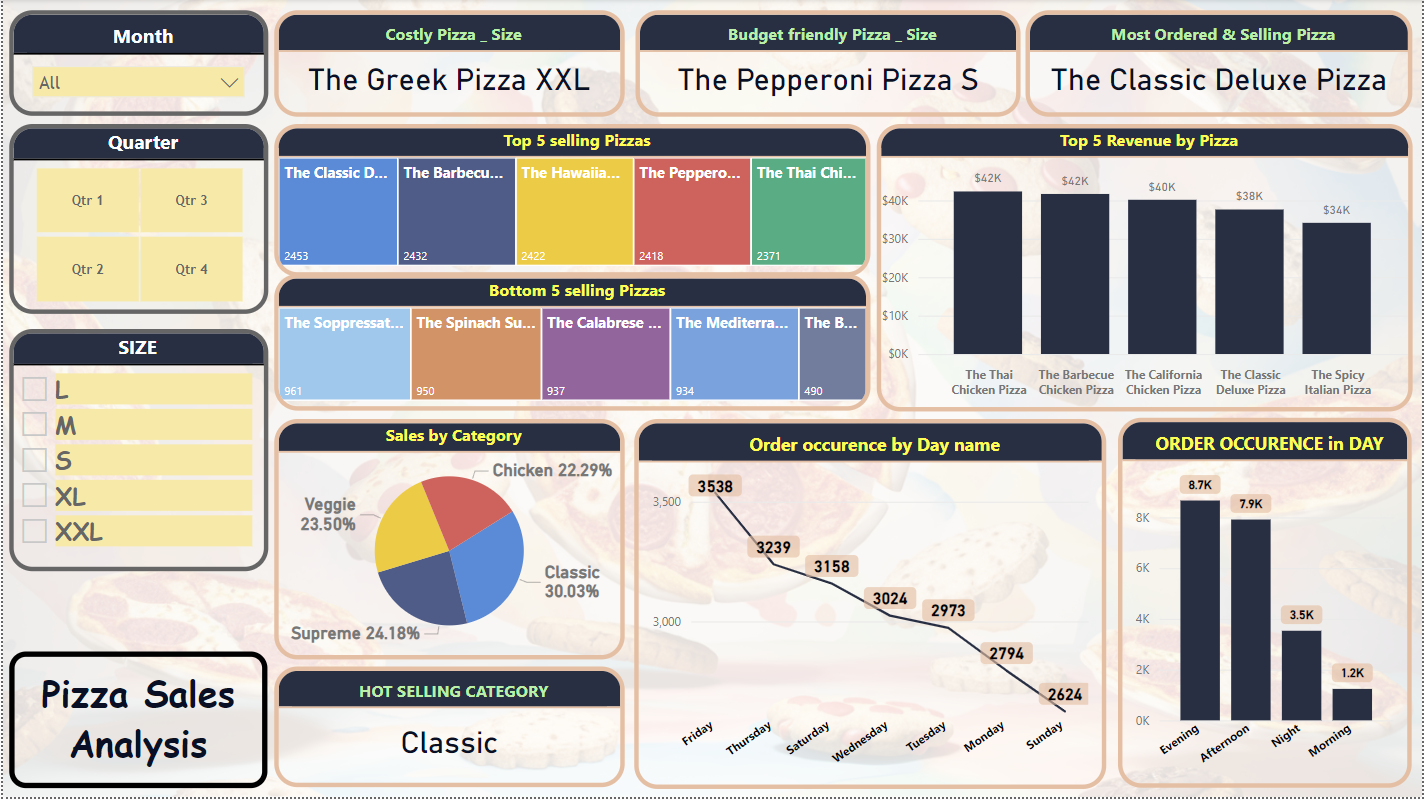

The page's visual inventory and layout, read from the dashboard file:
{"tool":"powerbi","page":{"name":"Dashboard","canvas":[1280,720],"ordinal":0},"visuals":[{"type":"card","title":"Most Ordered & Selling Pizza","fields":{"Values":["Pizza sales.Most ordered Pizza"]},"box":[922.1,9.6,348.5,96.1],"z":0},{"type":"columnChart","title":"ORDER OCCURENCE in DAY","fields":{"Category":["orders.day timing"],"Y":["CountNonNull(orders.order_id)"]},"box":[1005.8,377.4,264.8,333.4],"z":1000},{"type":"lineChart","title":"Order occurence by Day name","fields":{"Category":["orders.Day Name"],"Y":["CountNonNull(orders.order_id)"]},"box":[569.5,378.7,425.4,333.4],"z":2000},{"type":"pieChart","title":"Sales by Category","fields":{"Category":["Pizza sales.Category"],"Y":["Sum(Pizza sales.quantity)"]},"box":[244.3,378.7,315.6,217],"z":3000},{"type":"card","title":"HOT SELLING CATEGORY","fields":{"Values":["Pizza sales.Hot selling category"]},"box":[244.3,602.4,315.6,108.4],"z":4000},{"type":"card","title":"Budget friendly Pizza _ Size","fields":{"Values":["Pizza sales.Budget friendly pizza"]},"box":[570,10,347,95.7],"z":5000},{"type":"clusteredColumnChart","title":"Top 5 Revenue generating Pizzas","fields":{"Category":["Pizza sales.Pizza Name"],"Y":["Sum(Pizza sales.Price)"]},"box":[787.7,112.5,483,259],"z":6000},{"type":"card","title":"Costly Pizza _ Size","fields":{"Values":["pizzas price.Costliest pizza"]},"box":[244.3,9.6,315.6,96.1],"z":7000},{"type":"treemap","title":"Top 5 selling Pizzas","fields":{"Group":["Pizza sales.Pizza Name"],"Values":["Sum(Pizza sales.quantity)"]},"box":[244.3,112.5,537.9,137.2],"z":8000},{"type":"treemap","title":"Bottom 5 selling Pizzas","fields":{"Group":["Pizza sales.Pizza Name"],"Values":["Sum(Pizza sales.quantity)"]},"box":[244.3,248.4,537.9,123.5],"z":9000},{"type":"slicer","title":"Month ","fields":{"Values":["orders.date.Variation.Date Hierarchy.Month"]},"box":[5.7,10.3,233.3,95.4],"z":10000},{"type":"slicer","title":"Quarter ","fields":{"Values":["orders.date.Variation.Date Hierarchy.Quarter"]},"box":[5.7,112.6,233.3,171.3],"z":11000},{"type":"slicer","title":"SIZE","fields":{"Values":["pizzas price.size"]},"box":[5.7,297.7,233.3,218.4],"z":12000},{"type":"textbox","box":[5.7,588.6,232.9,122.9],"z":13000}]}

Visuals, with their boxes in screenshot pixels (x1, y1, x2, y2), scaled from the page's 1280x720 canvas onto the 1424x800 screenshot:
"Most Ordered & Selling Pizza" card: 1026,11,1414,117
"ORDER OCCURENCE in DAY" columnChart: 1119,419,1414,790
"Order occurence by Day name" lineChart: 634,421,1107,791
"Sales by Category" pieChart: 272,421,623,662
"HOT SELLING CATEGORY" card: 272,669,623,790
"Budget friendly Pizza _ Size" card: 634,11,1020,117
"Top 5 Revenue generating Pizzas" clusteredColumnChart: 876,125,1414,413
"Costly Pizza _ Size" card: 272,11,623,117
"Top 5 selling Pizzas" treemap: 272,125,870,277
"Bottom 5 selling Pizzas" treemap: 272,276,870,413
"Month " slicer: 6,11,266,117
"Quarter " slicer: 6,125,266,315
"SIZE" slicer: 6,331,266,573
textbox: 6,654,265,791
